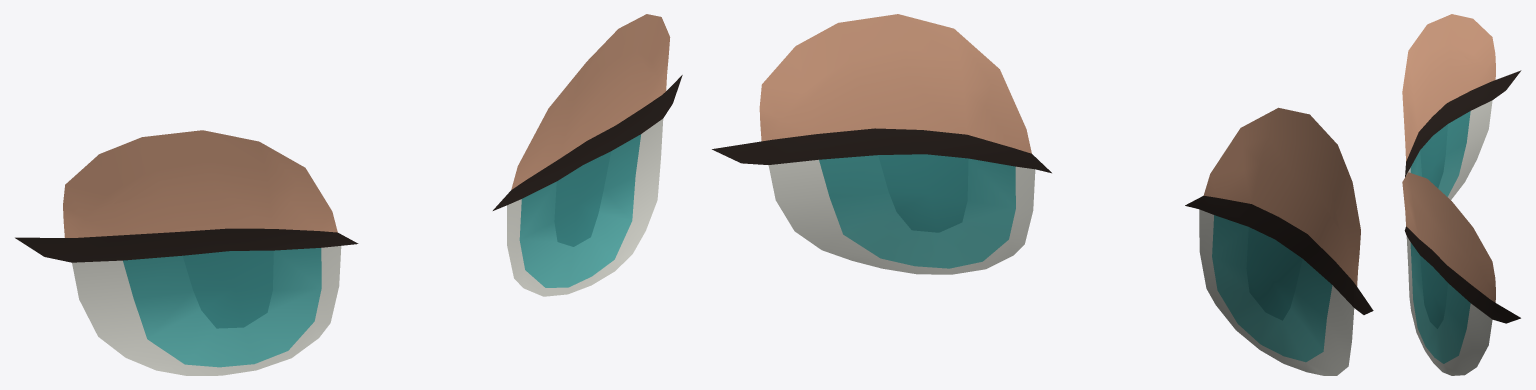
The model's file is Eye_BlueA_2.fbx.
3 renders of one model, left to right at view 1: azimuth 30°, elevation 25°; view 2: azimuth 150°, elevation 25°; view 3: azimuth 270°, elevation 25°, orthographic. The views are drawn at different scales.
Parts seen in each view (by area): view 1: Eye_BlueA_2; view 2: Eye_BlueA_2; view 3: Eye_BlueA_2.
Boxes of the visible parts, bbox=[...] form: Eye_BlueA_2: bbox=[15, 14, 682, 375]; Eye_BlueA_2: bbox=[712, 14, 1373, 375]; Eye_BlueA_2: bbox=[1402, 14, 1521, 375].
Bounding box in the file's own units: 41.23 × 14.98 × 8.38.
